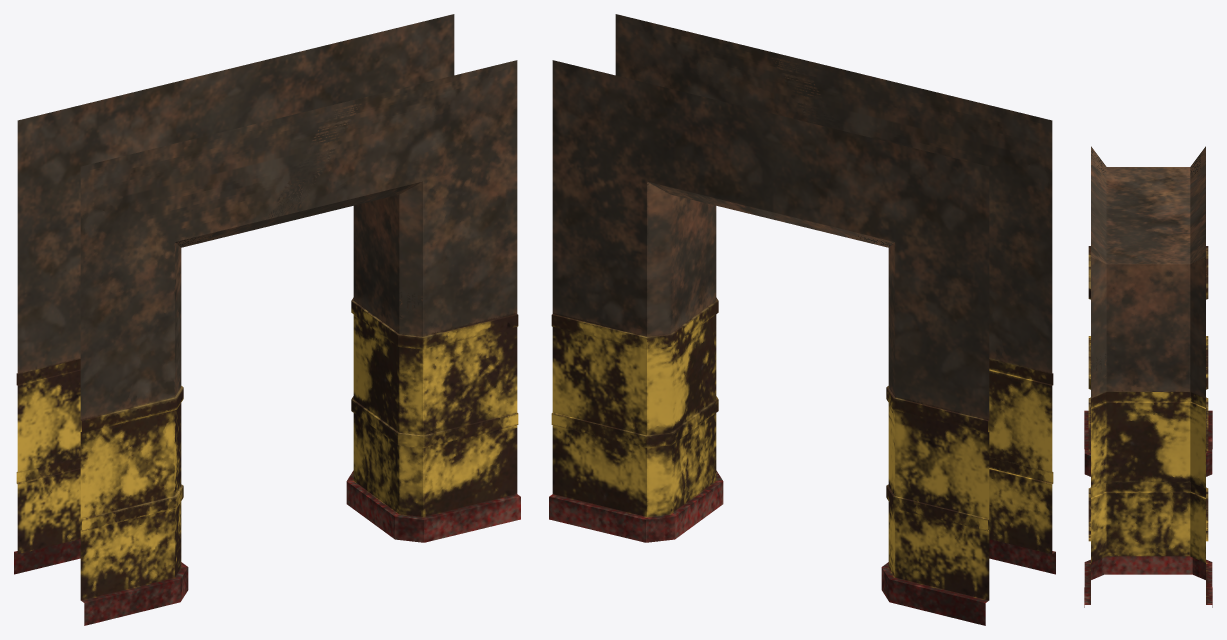
Rendered from arch1.fbx.
3 views of the same model, side by side, from view 1: azimuth 30°, elevation 25°; view 2: azimuth 150°, elevation 25°; view 3: azimuth 270°, elevation 25° (orthographic). The views are drawn at different scales.
Visible parts, largest first — view 1: arch1.001; view 2: arch1.001; view 3: arch1.001.
Part boxes in pixels (left/top/right/bottom): arch1.001: left=14, top=14, right=520, bottom=625; arch1.001: left=549, top=14, right=1055, bottom=625; arch1.001: left=1084, top=146, right=1212, bottom=607.
Size of the model in its own units: 400 by 400 by 112.
Materials: 1 (1 with a texture image).
